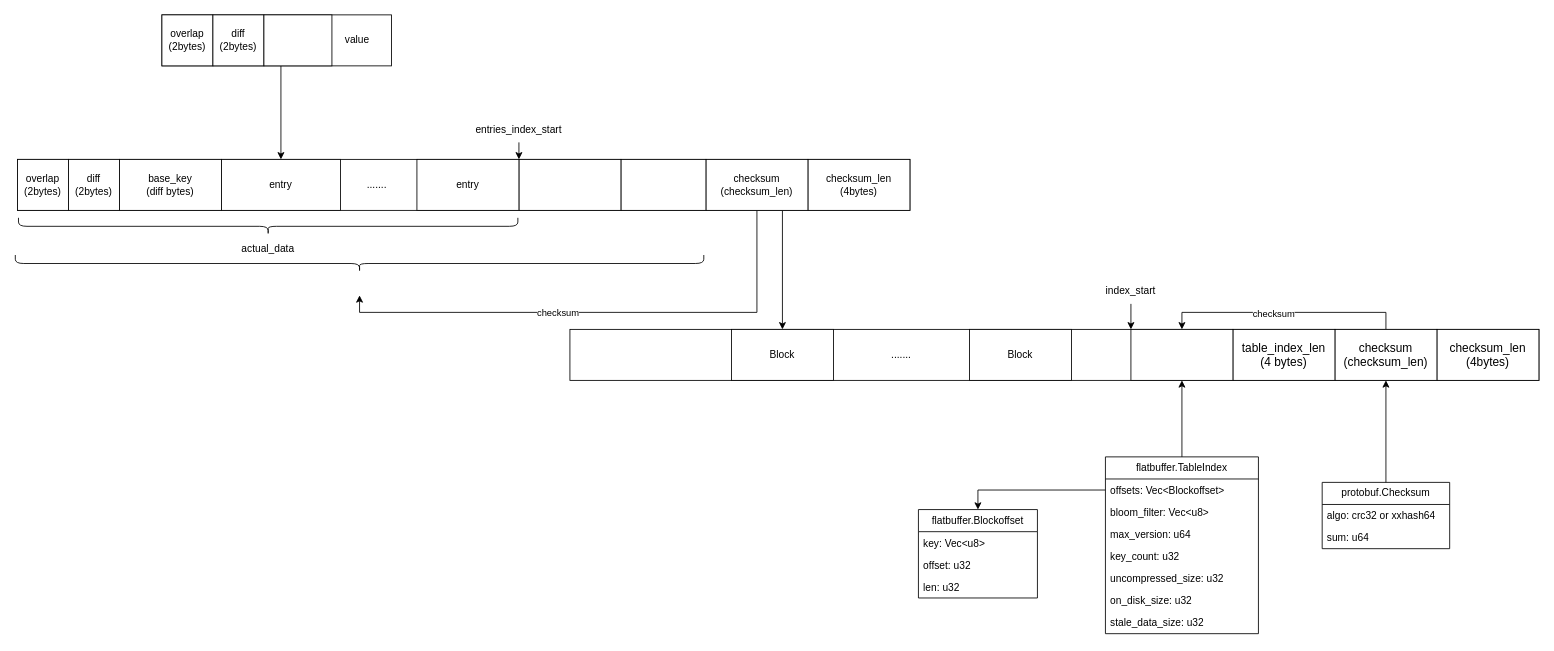
Image size: 1554x651. Some labels were removed from this diagram. The centre of each missing label's shape, as x and y in pixels:
data: [359,263]
diff_key (diff bytes): [297,40]
entry_offsets (Vec<u32>) (num_of_entries * 4): [569,184]
num_of_entries (4bytes): [663,184]
table_index (table_index_len): [1181,354]
